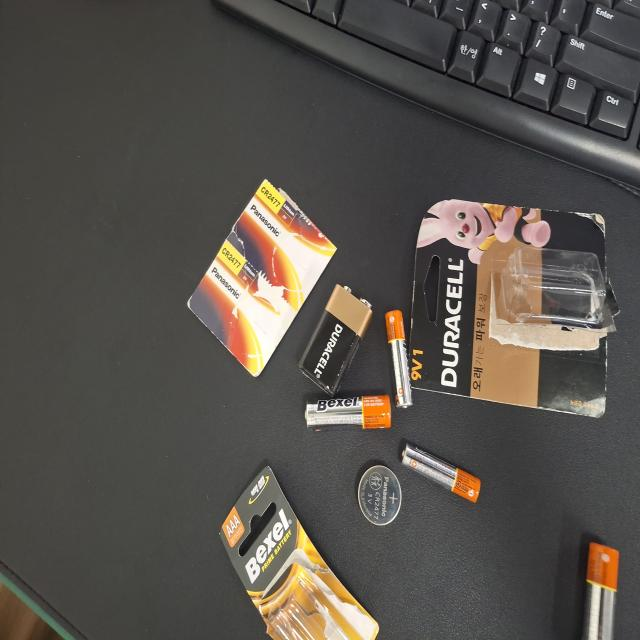9V: (184, 398, 266, 496)
AA: (157, 407, 183, 521)
AAA: (103, 536, 147, 640), (174, 514, 247, 550)
COIN: (86, 477, 131, 535)
